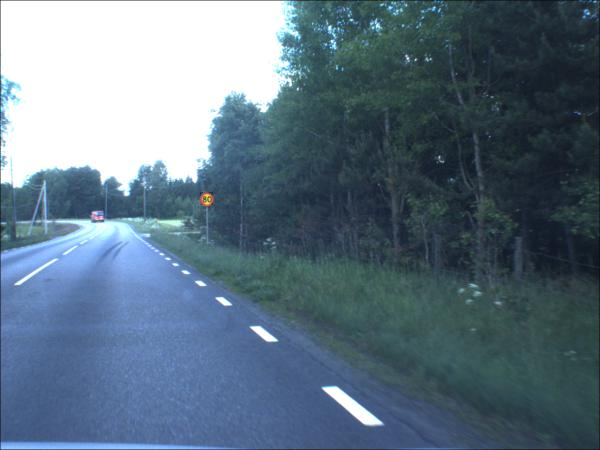80_SIGN: (202, 194, 216, 208)
